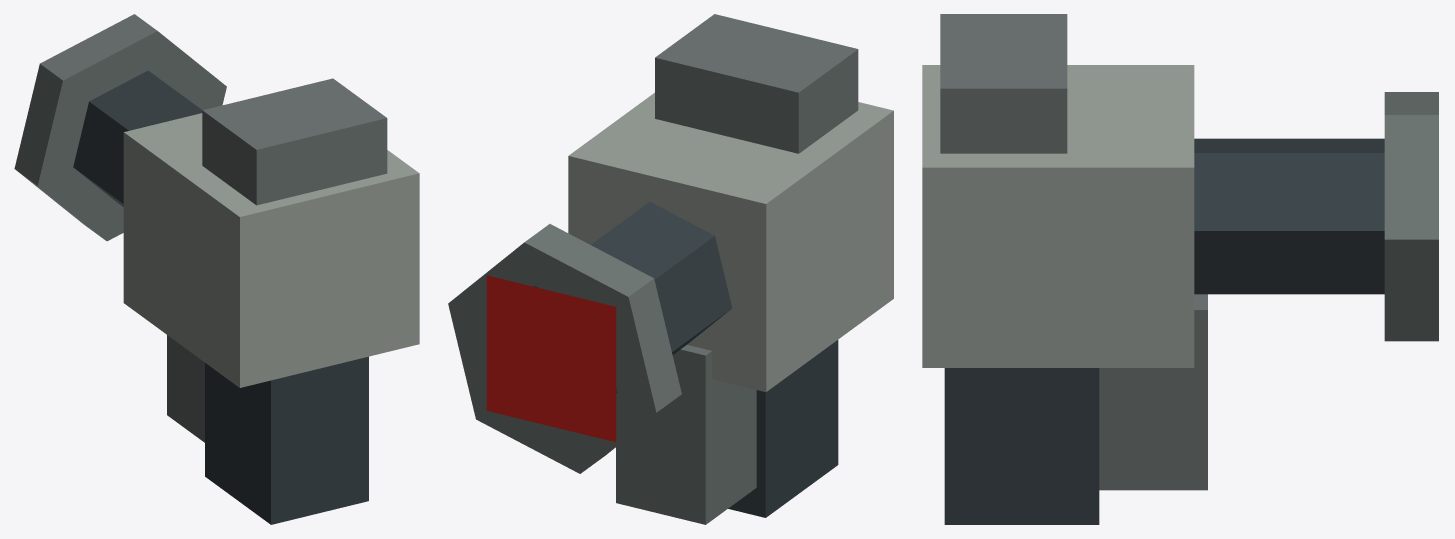
The picture shows the model from 3 angles, left to right: view 1: azimuth 30°, elevation 25°; view 2: azimuth 150°, elevation 25°; view 3: azimuth 270°, elevation 25°; orthographic projection. The views are drawn at different scales.
Parts seen in each view (by area): view 1: mount; view 2: mount; view 3: mount.
Part boxes in pixels (box(x1,y1,x2,y2)): mount: box(14, 14, 419, 524); mount: box(448, 14, 893, 524); mount: box(922, 14, 1438, 524).
Size of the model in its own units: 4.52 by 8.68 by 9.15.
